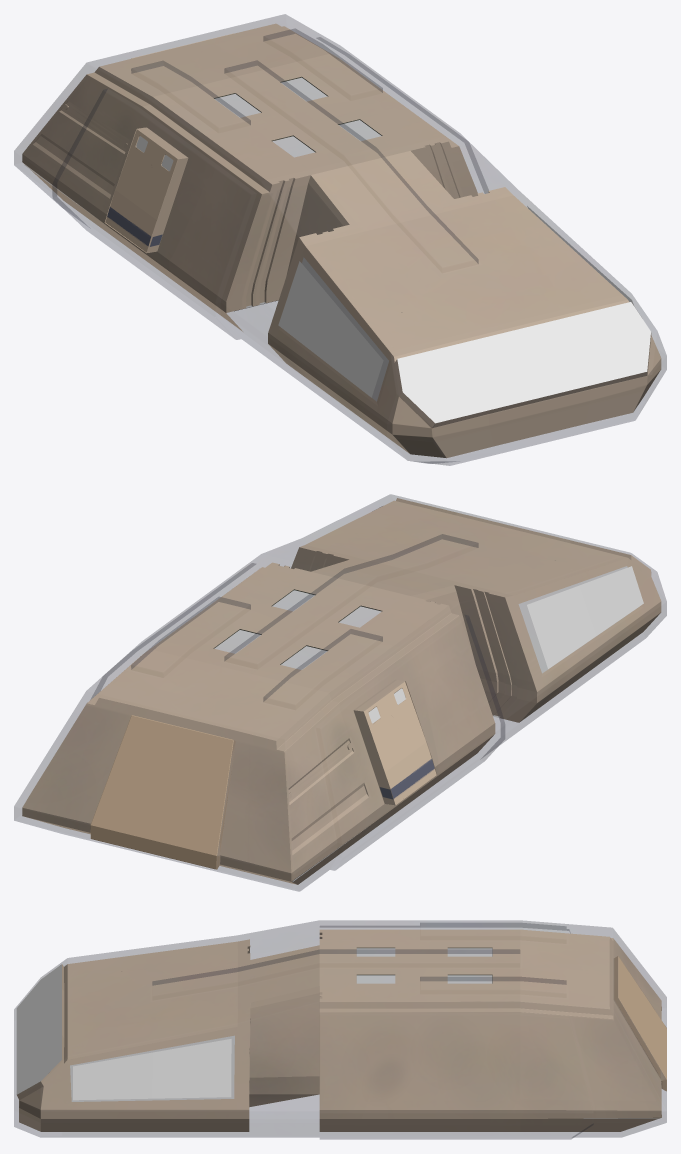
File: SSCShuttle1.fbx
3 views of the same model, one above another, from view 1: azimuth 30°, elevation 25°; view 2: azimuth 150°, elevation 25°; view 3: azimuth 270°, elevation 25° (orthographic). The views are drawn at different scales.
Parts seen in each view (by area): view 1: SSC_Shuttle1_Body_LOD0, SSC_Shuttle1_Interior_LOD0, SSC_Shuttle1_SideDoorA_LOD0, SSC_Shuttle1_SideDoorB_LOD0; view 2: SSC_Shuttle1_Body_LOD0, SSC_Shuttle1_Interior_LOD0, SSC_Shuttle1_RearDoor_LOD0, SSC_Shuttle1_SideDoorB_LOD0, SSC_Shuttle1_SideDoorA_LOD0; view 3: SSC_Shuttle1_Body_LOD0, SSC_Shuttle1_Interior_LOD0, SSC_Shuttle1_RearDoor_LOD0.
Part boxes in pixels (box(x1,y1,x2,y2)): SSC_Shuttle1_Body_LOD0: box(14, 14, 666, 465); SSC_Shuttle1_Interior_LOD0: box(22, 23, 661, 458); SSC_Shuttle1_SideDoorA_LOD0: box(127, 145, 187, 252); SSC_Shuttle1_SideDoorB_LOD0: box(105, 129, 157, 237); SSC_Shuttle1_Body_LOD0: box(14, 494, 666, 891); SSC_Shuttle1_Interior_LOD0: box(22, 498, 661, 884); SSC_Shuttle1_RearDoor_LOD0: box(90, 715, 235, 869); SSC_Shuttle1_SideDoorB_LOD0: box(354, 696, 416, 805); SSC_Shuttle1_SideDoorA_LOD0: box(385, 682, 436, 789); SSC_Shuttle1_Body_LOD0: box(14, 920, 666, 1139); SSC_Shuttle1_Interior_LOD0: box(17, 929, 666, 1131); SSC_Shuttle1_RearDoor_LOD0: box(614, 956, 666, 1091).
Size of what is drawn, in the model's own units: 1048 by 577 by 2431.
